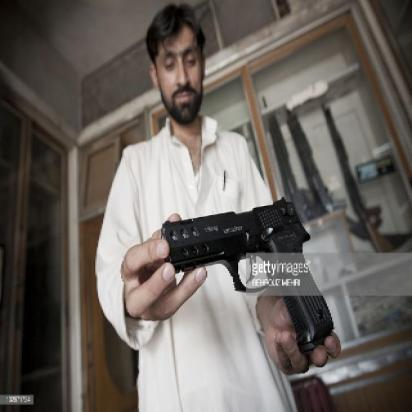Gun: (160, 195, 334, 353)
